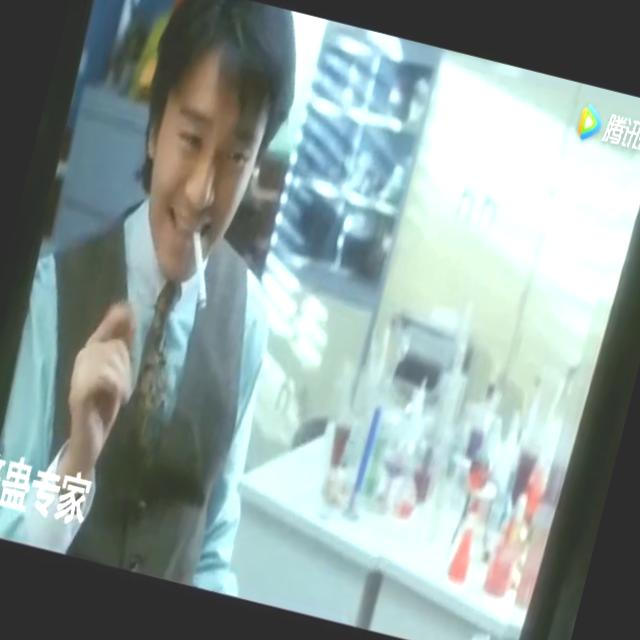cigarette: (176, 223, 228, 317)
